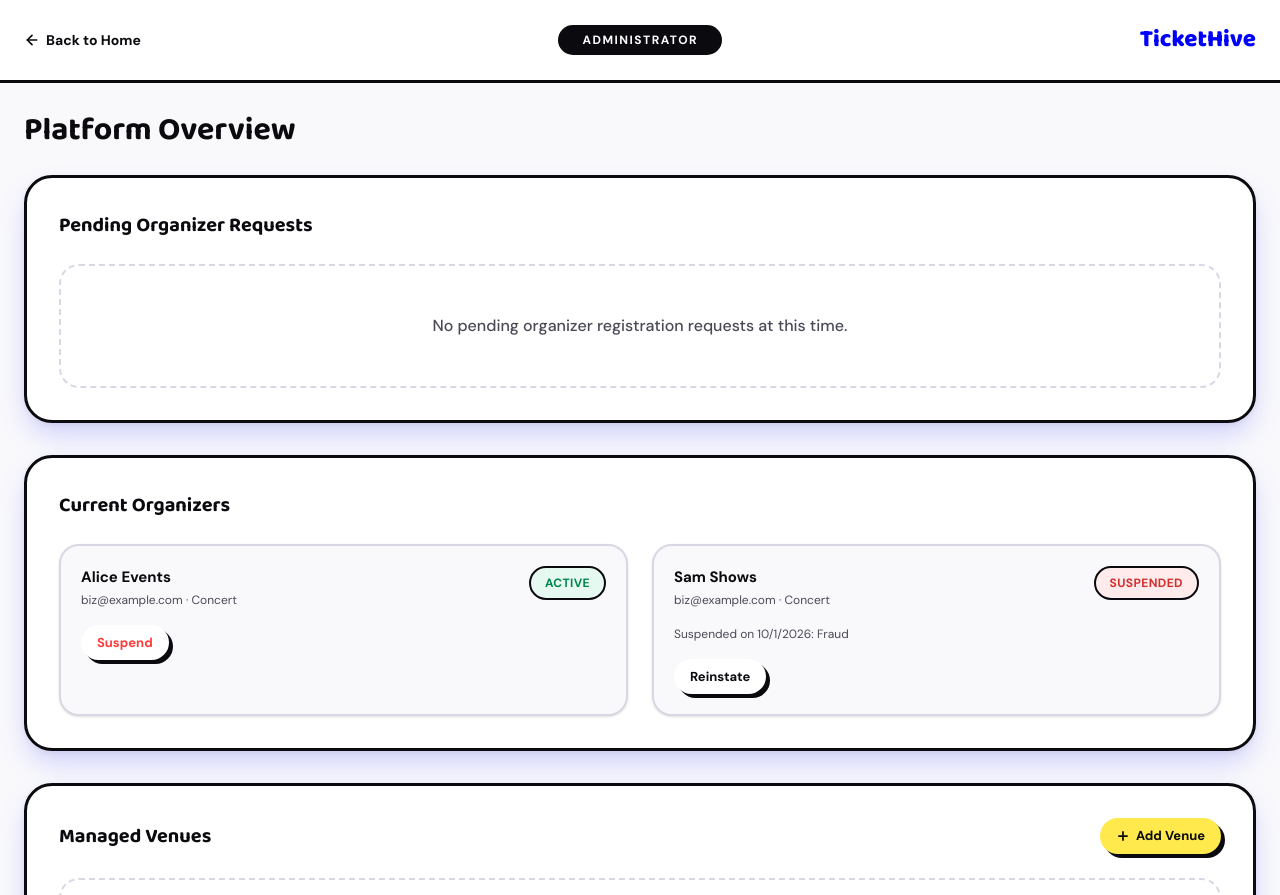
Test: AdminDashboard organizer suspension › reinstates a suspended organizer in one click and refreshes the list
Click the button with aria-label "Reinstate Sam Shows" at (720, 676), box [674,658,766,694]
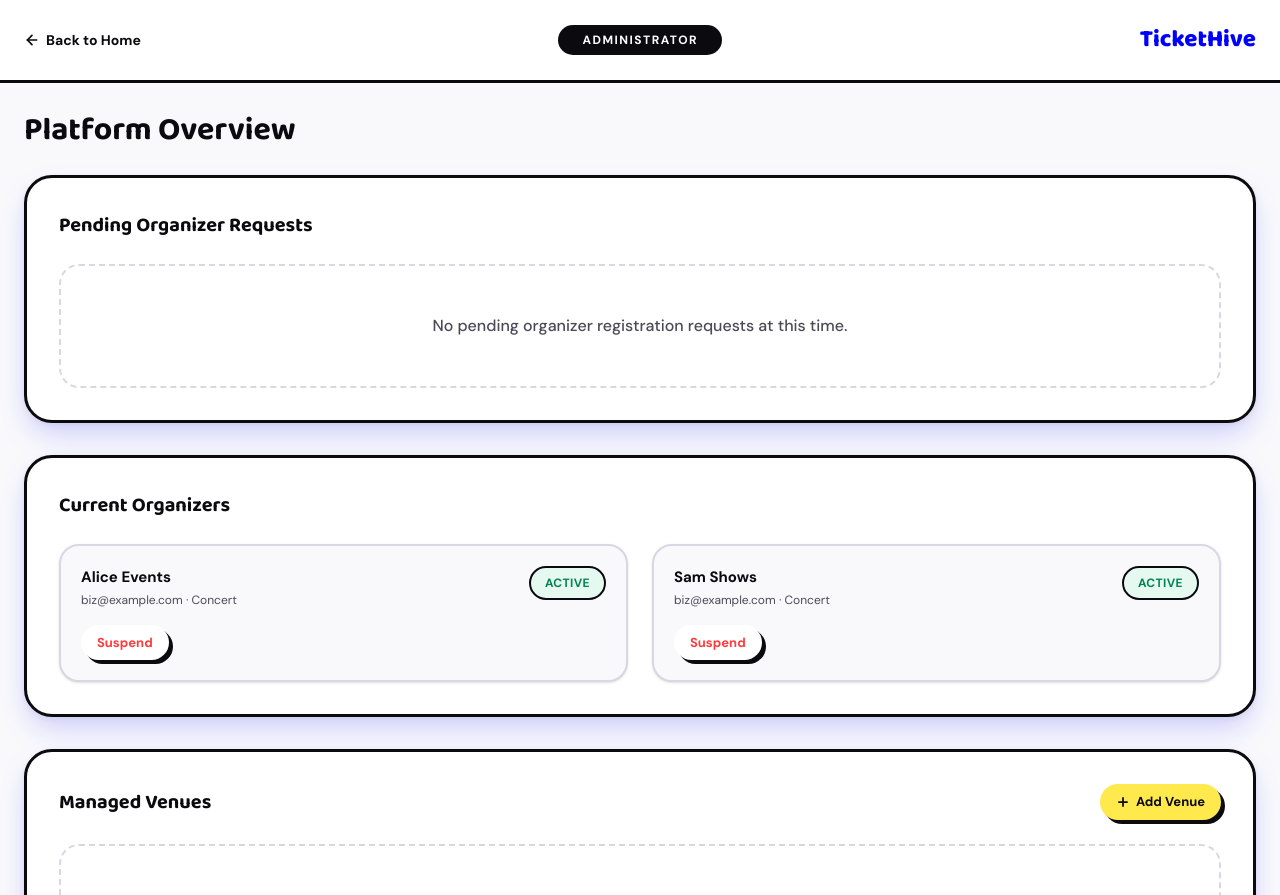
Expected: the button with aria-label "Suspend Sam Shows" is shown, [674,624,762,660]
Expected: the button "Reinstate" is gone
